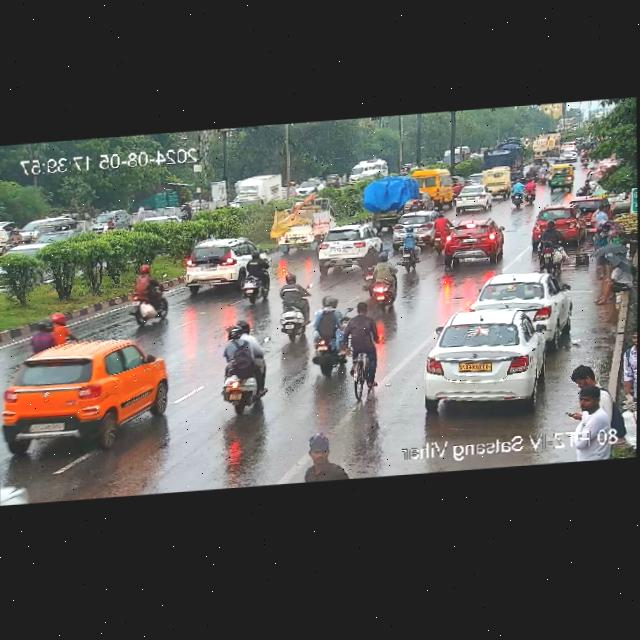bus: (415, 169, 452, 208)
car: (0, 336, 173, 446), (416, 305, 550, 410), (470, 268, 567, 335), (180, 236, 250, 280), (445, 215, 501, 267), (313, 222, 381, 264), (393, 209, 438, 242), (452, 184, 493, 211), (480, 168, 513, 199), (93, 203, 128, 232), (547, 164, 574, 191)
motorcycle: (218, 317, 268, 420), (343, 299, 379, 398), (124, 263, 171, 326), (316, 293, 344, 373), (279, 273, 312, 338), (244, 242, 271, 307), (371, 249, 394, 307), (537, 217, 563, 268), (396, 226, 422, 270), (359, 240, 378, 288), (432, 211, 450, 254), (525, 158, 552, 184), (510, 179, 528, 208), (6, 226, 21, 251), (525, 174, 537, 202), (100, 217, 114, 233), (410, 195, 419, 213)
person: (301, 428, 351, 482), (24, 307, 71, 348), (570, 382, 610, 429), (617, 328, 637, 408), (596, 260, 627, 307), (596, 220, 613, 278), (568, 358, 599, 387), (591, 202, 614, 230), (580, 180, 589, 196)
truck: (355, 167, 412, 215)
